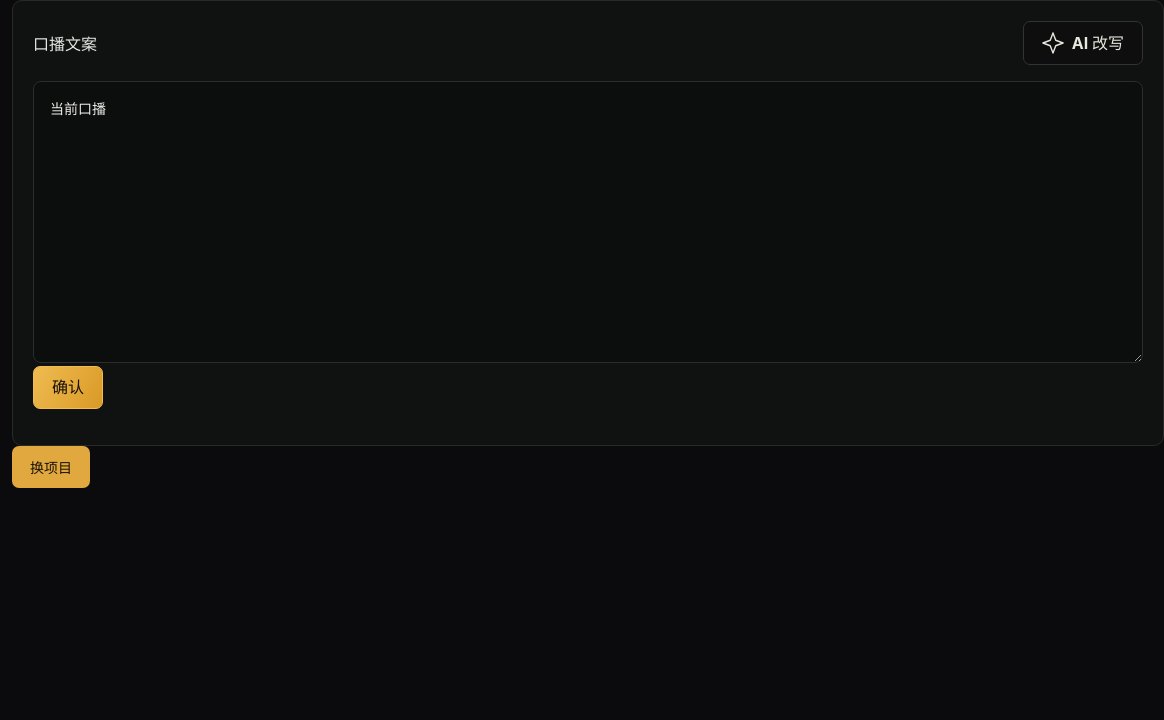
Test case: AI 改写覆盖唯一文案框并支持撤销
This screenshot has width=1164, height=720.
Click the button "AI 改写".
click(1083, 43)  # box [1023, 21, 1143, 65]
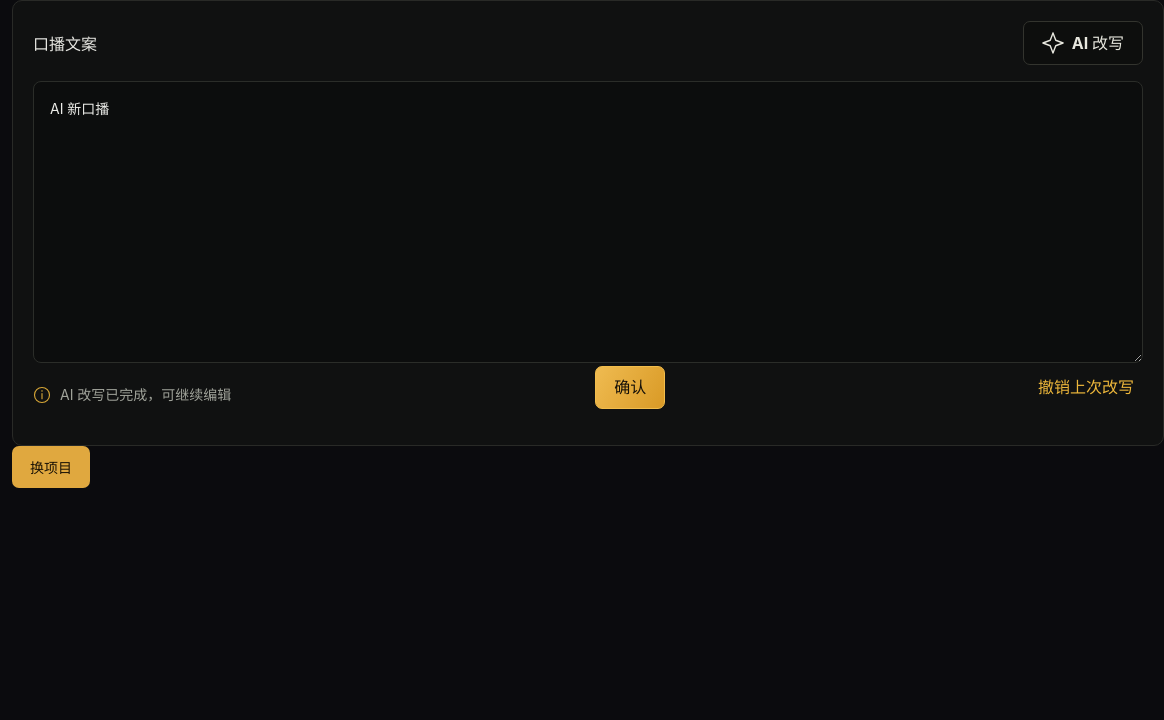
Check: the text box named "口播文案" holds "AI 新口播", box [33, 81, 1143, 363]
Click the button "撤销上次改写".
click(1086, 387)  # box [1029, 366, 1143, 408]
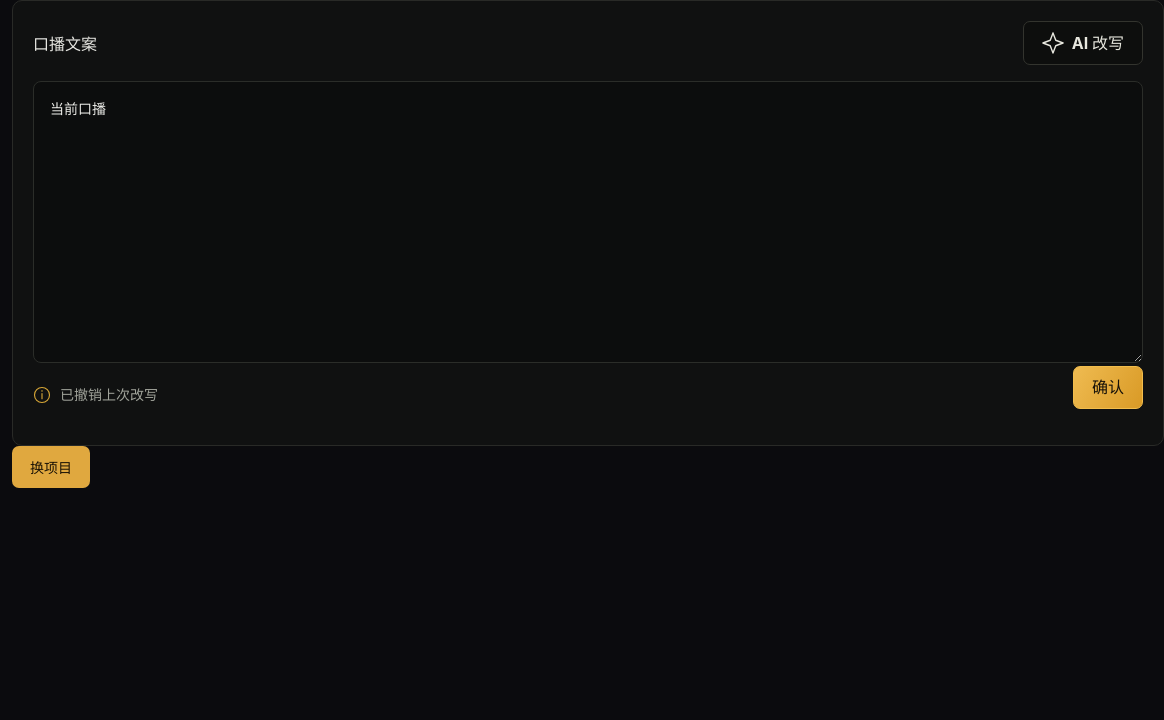
Check: the text box named "口播文案" holds "当前口播", box [33, 81, 1143, 363]
